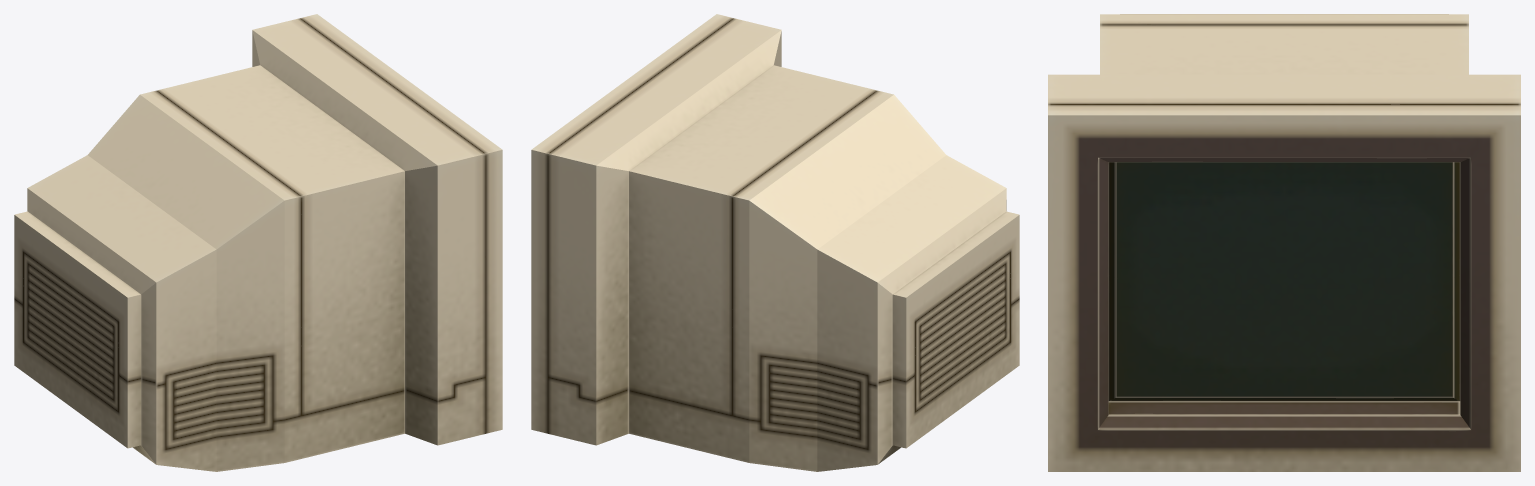
The model's file is Monitor.obj.
3 views of the same model, side by side, from view 1: azimuth 30°, elevation 25°; view 2: azimuth 150°, elevation 25°; view 3: azimuth 270°, elevation 25° (orthographic). The views are drawn at different scales.
Parts seen in each view (by area): view 1: Monitor; view 2: Monitor; view 3: Monitor.
Part boxes in pixels (left/top/right/bottom): Monitor: left=14, top=14, right=502, bottom=471; Monitor: left=531, top=14, right=1019, bottom=471; Monitor: left=1048, top=14, right=1520, bottom=471.
Size of the model in its own units: 2.7 by 2.13 by 2.56.
Materials: 1 (1 with a texture image).
